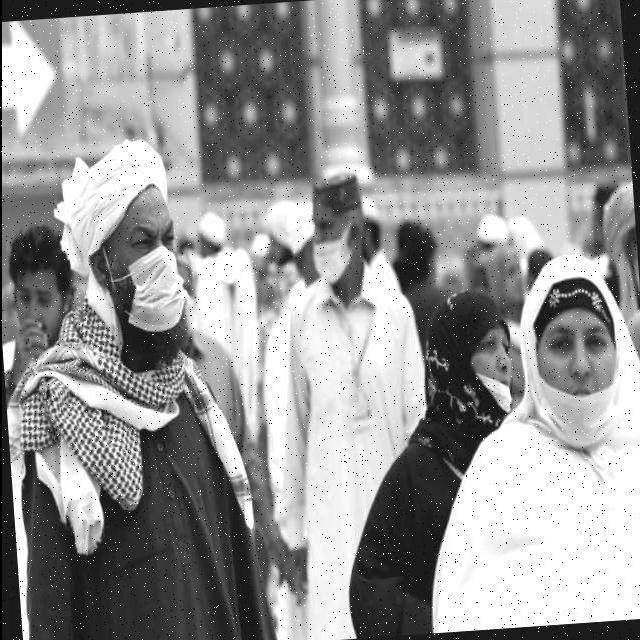mask: (135, 244, 182, 322), (310, 242, 354, 286)
no_gloves: (80, 134, 148, 228), (536, 262, 610, 302), (313, 163, 360, 225), (442, 293, 506, 335), (9, 236, 58, 282)
no_hairnet: (553, 352, 623, 399), (463, 345, 512, 395), (21, 302, 59, 336)
